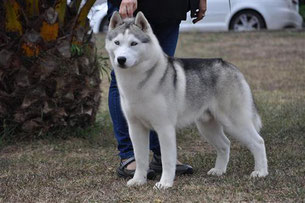husky: (100, 9, 185, 187)
